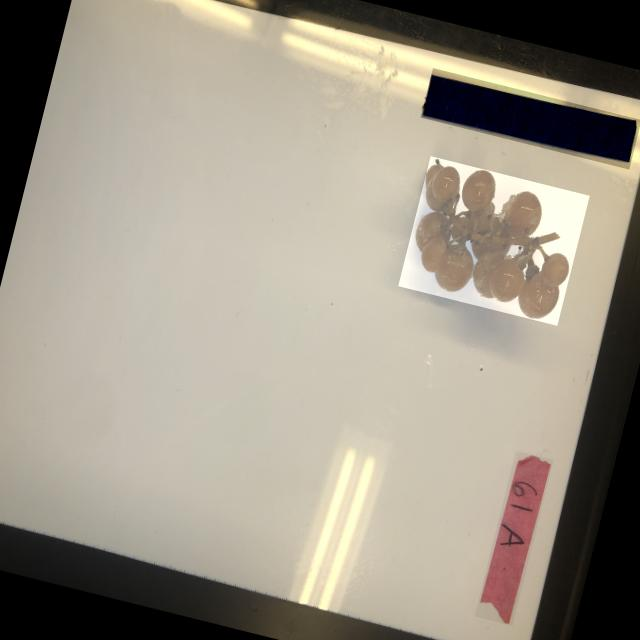grape_cluster: (396, 156, 588, 326)
index: (473, 450, 552, 625)
measure_label: (419, 68, 640, 168)
